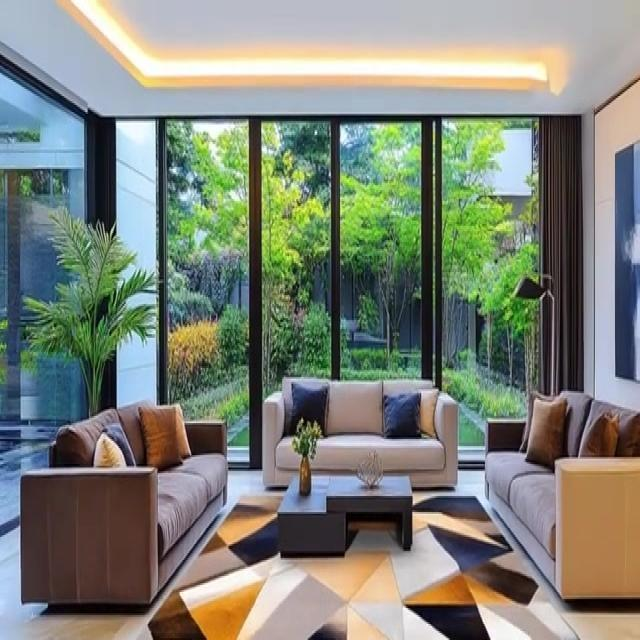obstacle: (19, 398, 228, 612), (483, 388, 639, 602), (261, 375, 458, 489), (274, 472, 410, 556)
